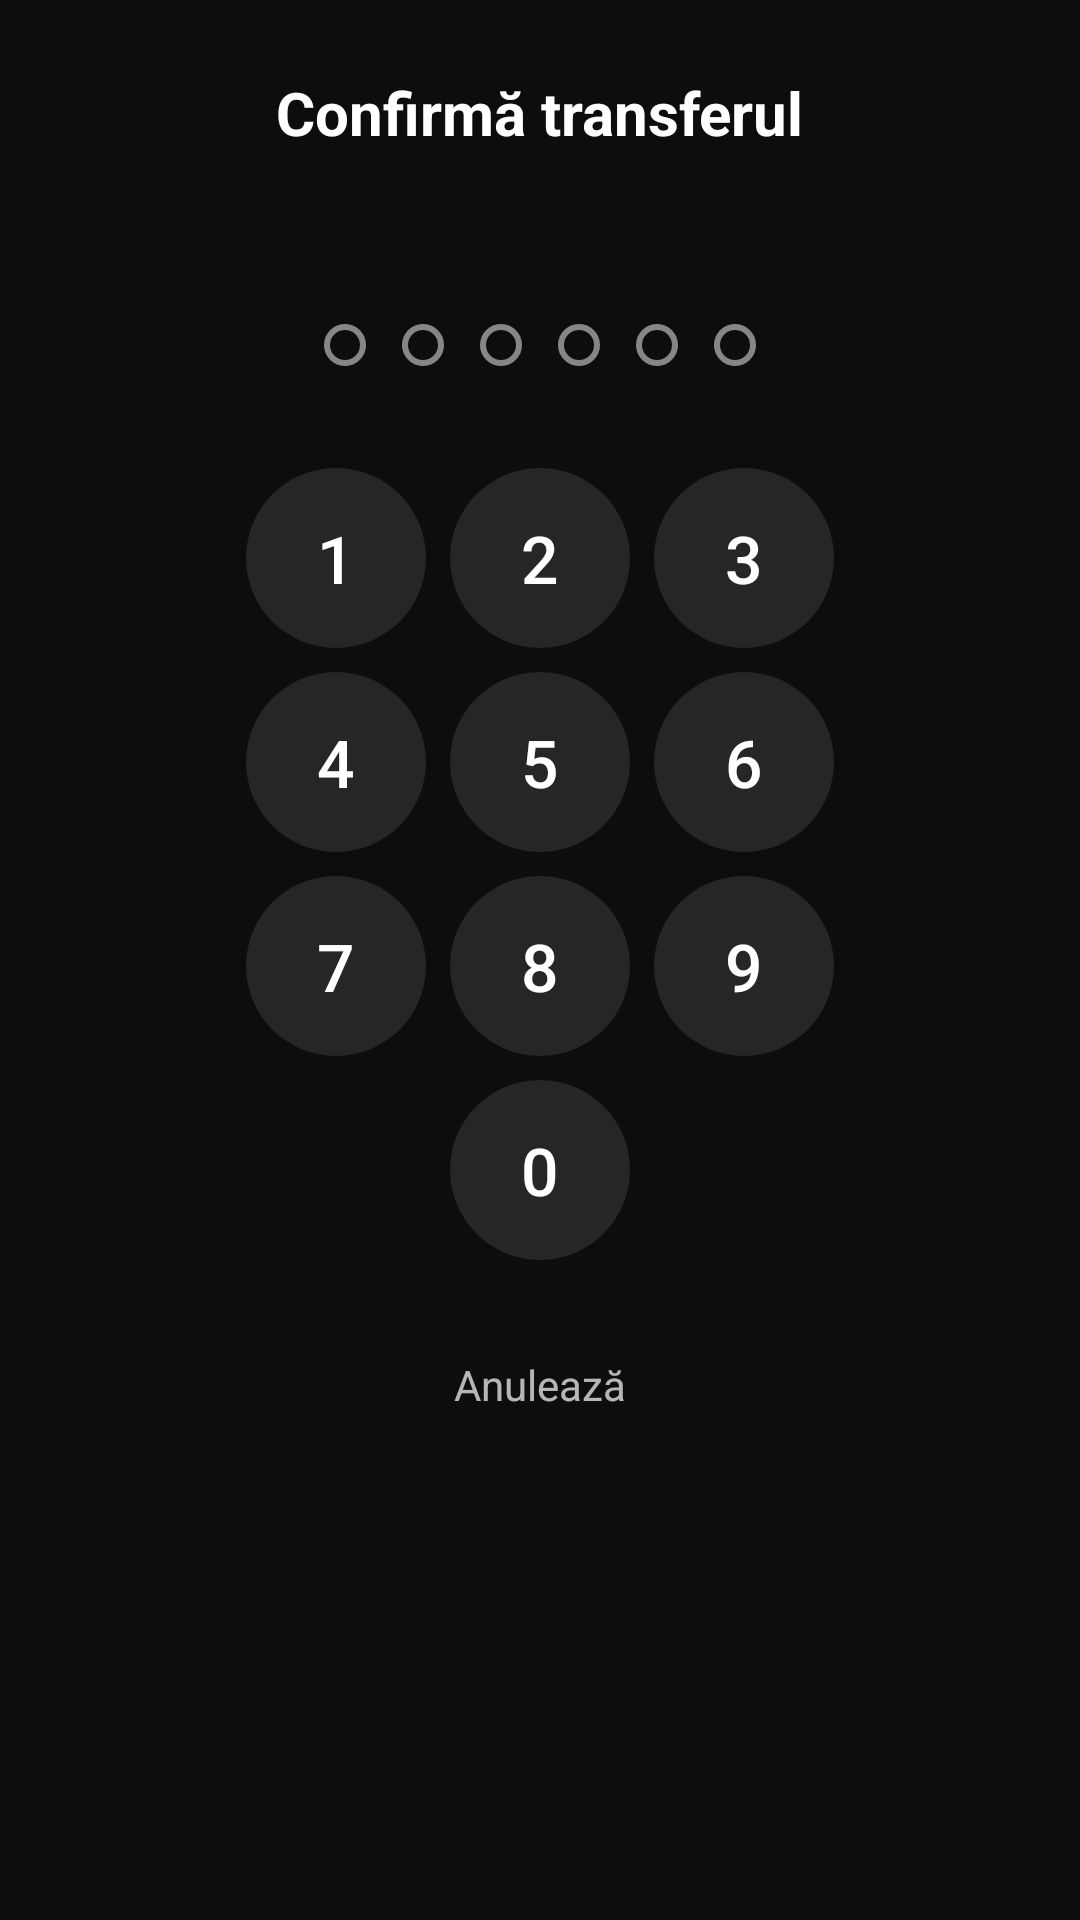

Screen size 1080px×1920px. Icon name, then its center in pixels as (x=x, y=y):
pin dot empty: (x=345, y=345), (x=423, y=345), (x=501, y=345), (x=579, y=345), (x=657, y=345), (x=735, y=345)
